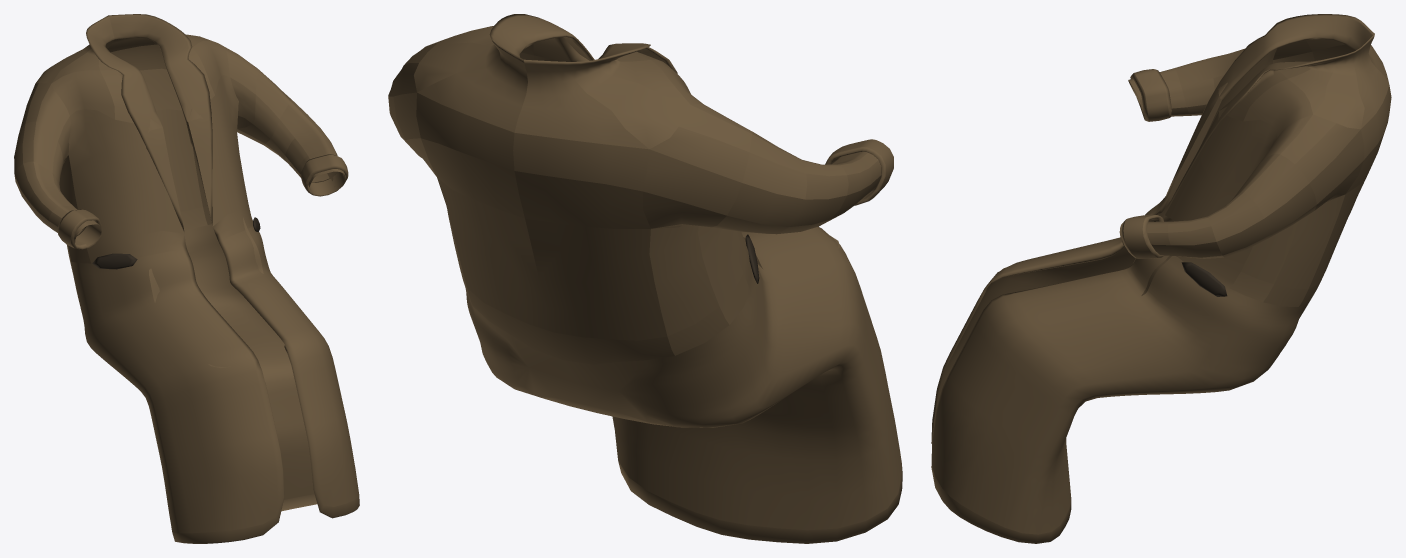
Rendered from detective_reading.fbx.
The picture shows the model from 3 angles, left to right: view 1: azimuth 30°, elevation 25°; view 2: azimuth 150°, elevation 25°; view 3: azimuth 270°, elevation 25°; orthographic projection. The views are drawn at different scales.
Visible parts, largest first — view 1: DETECTIVE_jacket.002; view 2: DETECTIVE_jacket.002; view 3: DETECTIVE_jacket.002.
Boxes of the visible parts, x1,y1,x2,y2 form: DETECTIVE_jacket.002: (14,14,359,543); DETECTIVE_jacket.002: (388,14,902,543); DETECTIVE_jacket.002: (931,14,1391,543).
Bounding box in the file's own units: 88.61 × 119 × 104.
